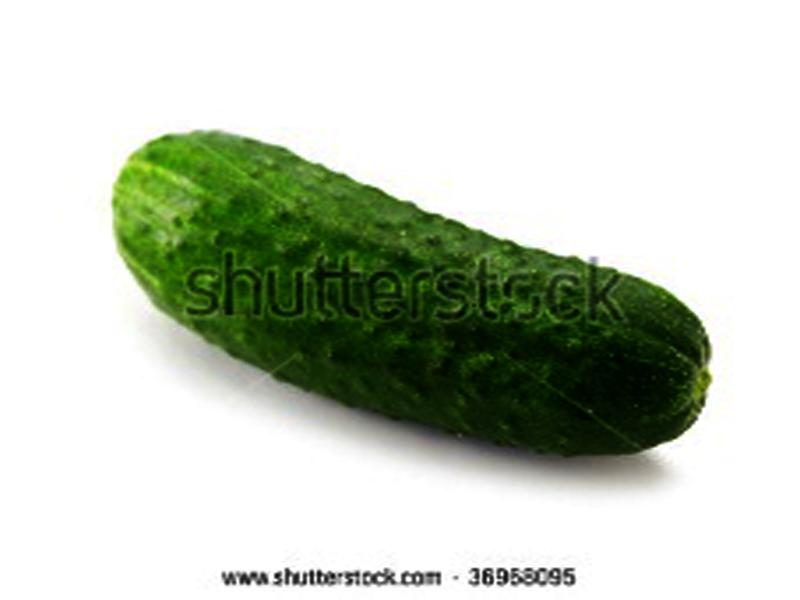Cucumber: (113, 130, 708, 457)
